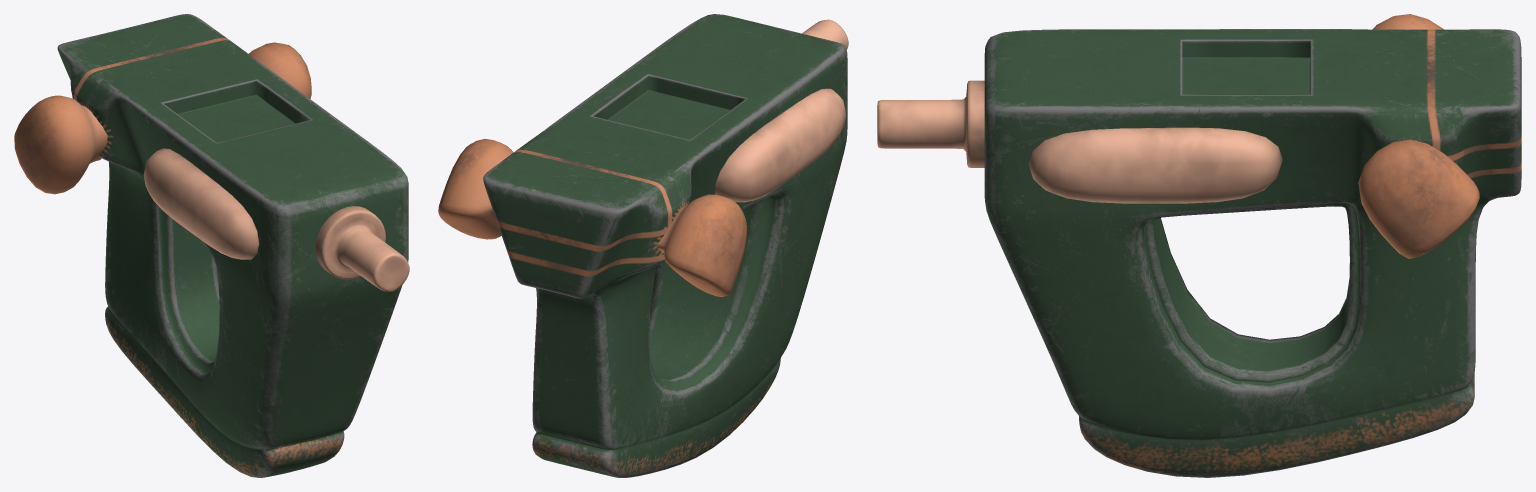
The model's file is laser_tool_2.gltf.
3 renders of one model, left to right at view 1: azimuth 30°, elevation 25°; view 2: azimuth 150°, elevation 25°; view 3: azimuth 270°, elevation 25°, orthographic. The views are drawn at different scales.
Visible parts, largest first — view 1: Chassis, Vents, Side, Barrel; view 2: Chassis, Vents, Side, Barrel; view 3: Chassis, Side, Vents, Barrel.
Part boxes in pixels (x1,y1,x2,y2): Chassis: (57, 14, 408, 477); Vents: (14, 42, 311, 194); Side: (143, 148, 259, 259); Barrel: (315, 206, 409, 291); Chassis: (483, 14, 847, 477); Vents: (438, 138, 746, 297); Side: (714, 88, 845, 202); Barrel: (802, 19, 848, 49); Chassis: (984, 29, 1521, 477); Side: (1028, 127, 1282, 203); Vents: (1358, 14, 1479, 258); Barrel: (877, 80, 984, 167).
Size of the model in its own units: 0.4977 by 0.5891 by 0.8658.
Materials: 1 (1 with a texture image).
